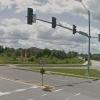Traffic light: (22, 6, 73, 35)
